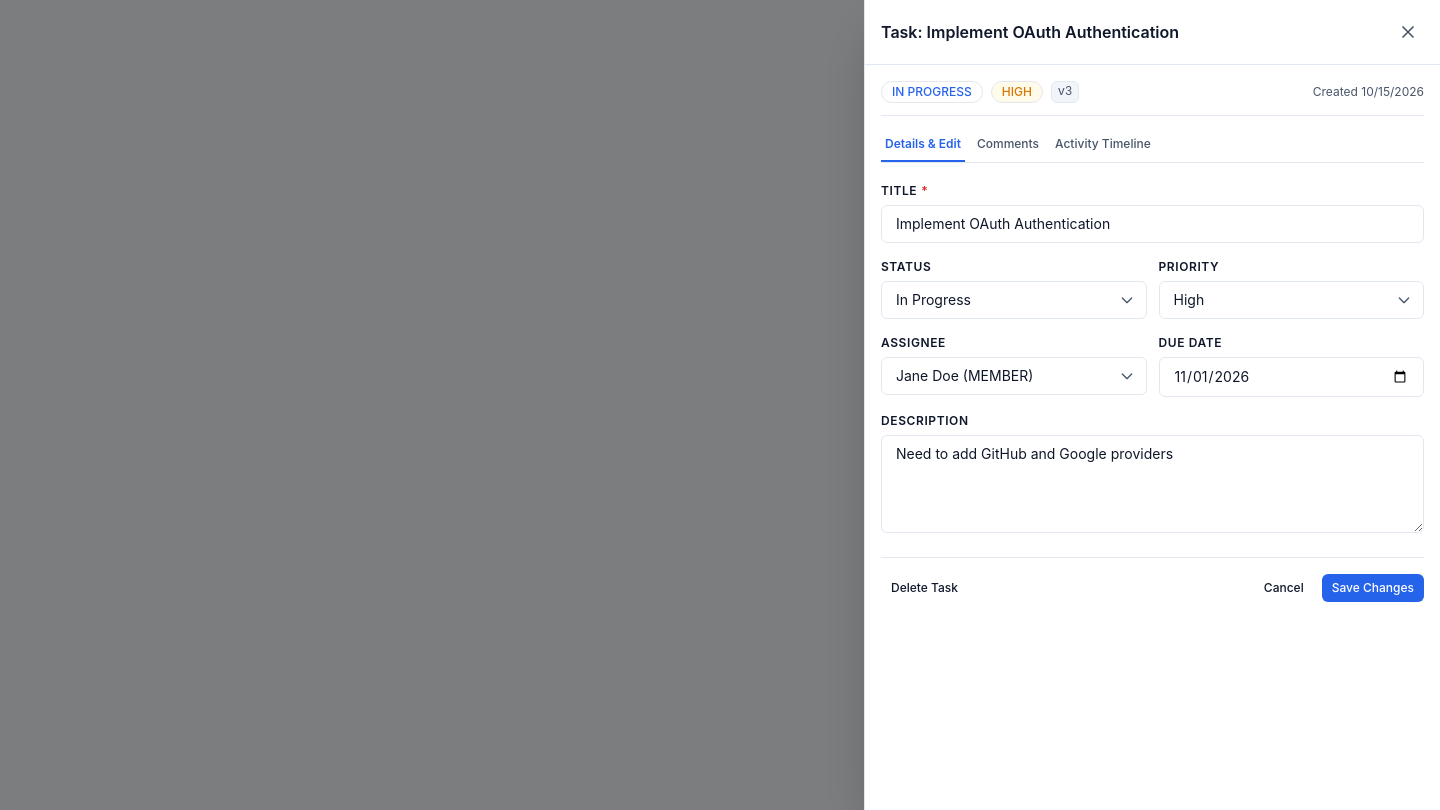
TaskDetailDrawer Component › displays conflict message and refetches when receiving 409 Conflict
Expected: the field showing "Implement OAuth Authentication" is shown, [881,205,1424,243]
Click the button "Save Changes". click: [1373, 588]
box: [1322,574,1424,602]
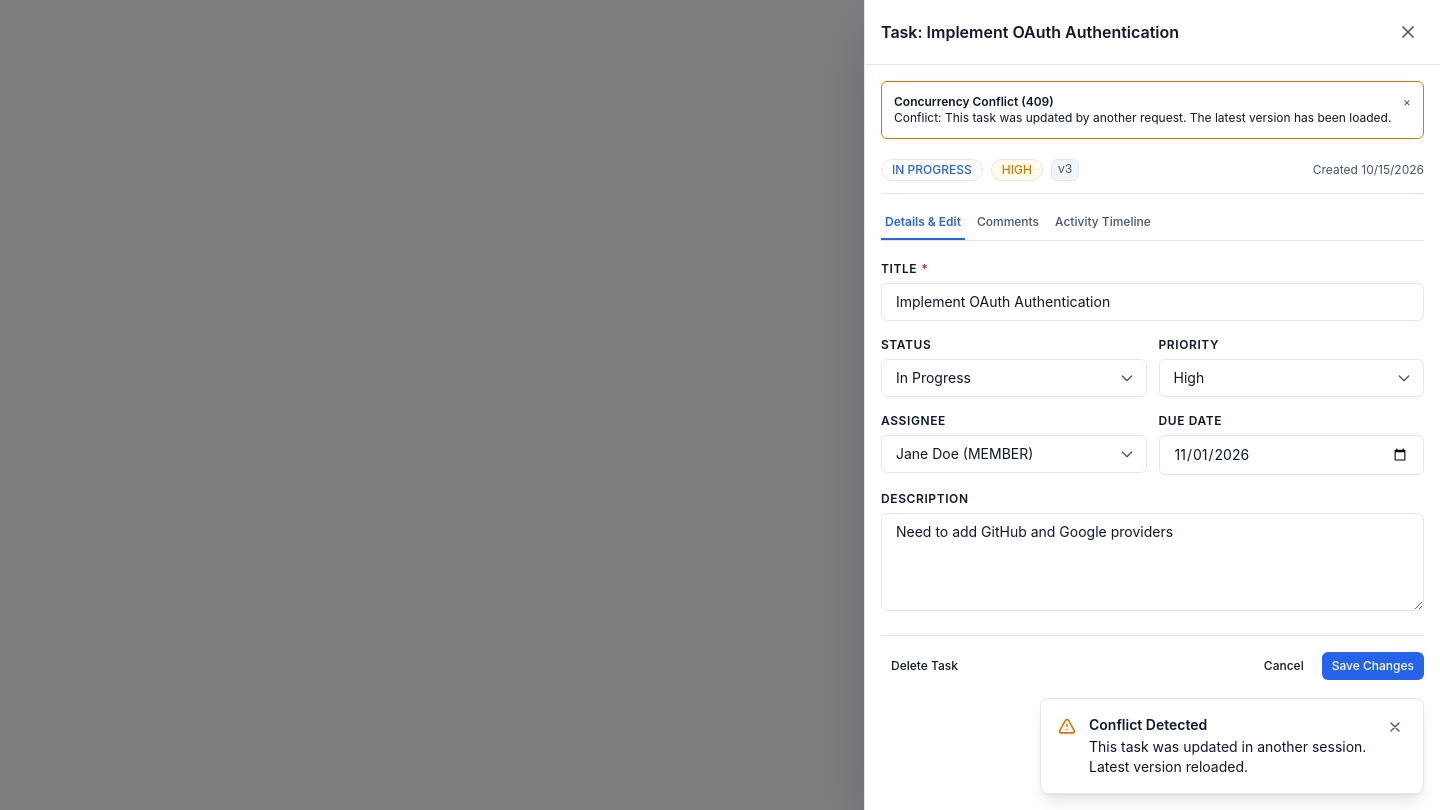
Result: the message that starts with "Concurrency Conflict (409)" is shown at [894,94,1054,109]
